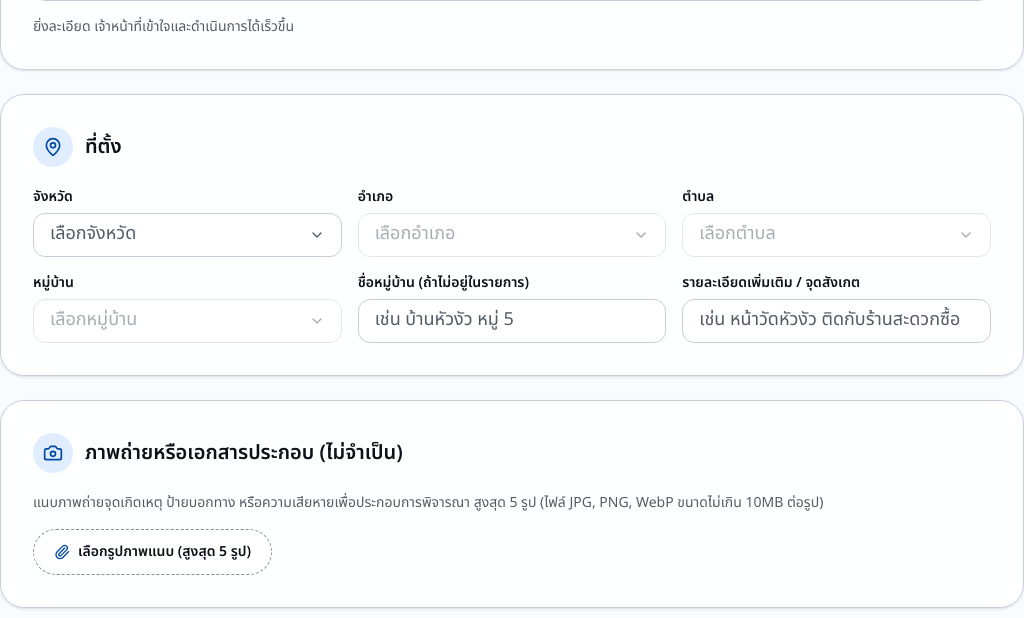
Test case: ฟอร์มแจ้งเรื่องสำหรับผู้สูงอายุ › NET-01: เมื่อสลับจังหวัดเร็ว ผลลัพธ์ที่มาช้าของจังหวัดเก่าจะไม่ทับอำเภอของจังหวัดใหม่
This screenshot has width=1024, height=618.
(page scrolled)
Press ArrowDown in the dropdown labelled "จังหวัด", box x1=33 y1=213 x2=342 y2=257
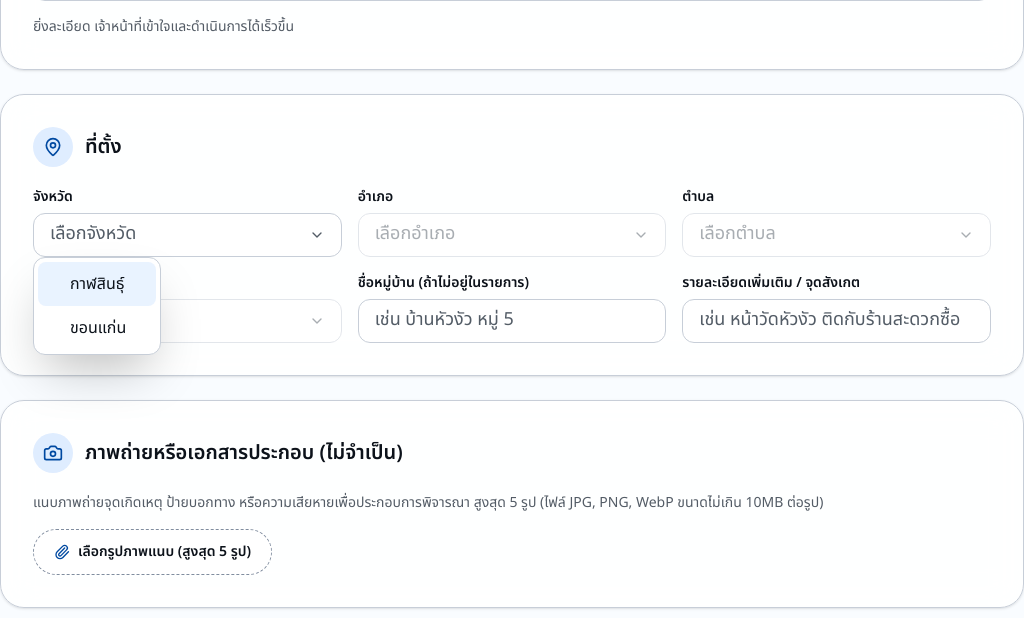
Click the option "กาฬสินธุ์" at (97, 284), box x1=38 y1=262 x2=156 y2=306
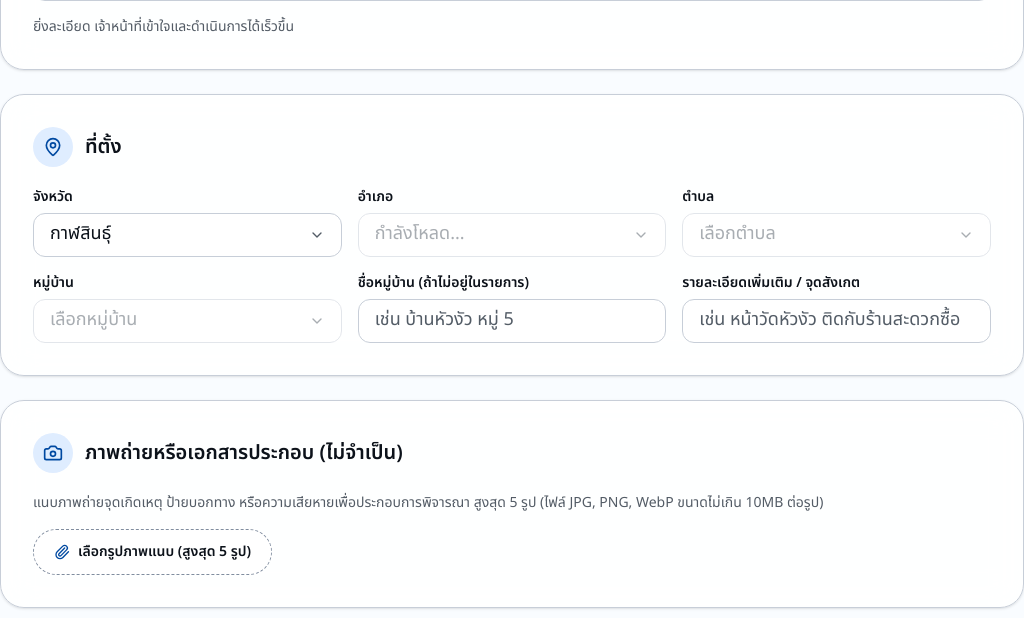
Press ArrowDown in the dropdown named "จังหวัด", box x1=33 y1=213 x2=342 y2=257
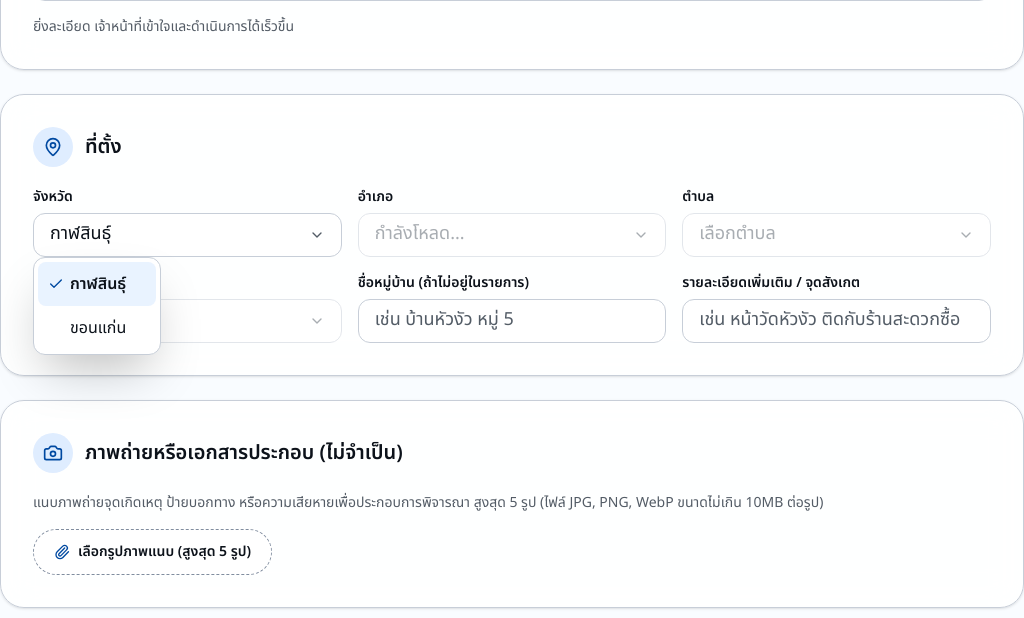
Click the option "ขอนแก่น" at (98, 328), box x1=70 y1=316 x2=126 y2=340
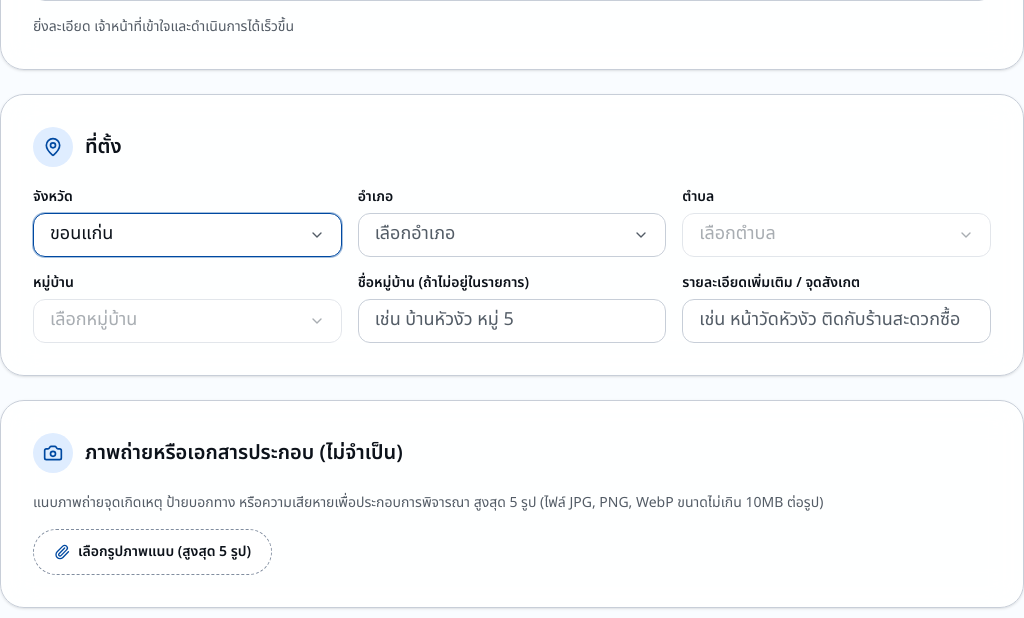
Now the dropdown labelled "อำเภอ" is enabled
Press ArrowDown in the dropdown labelled "อำเภอ", box x1=358 y1=213 x2=666 y2=257
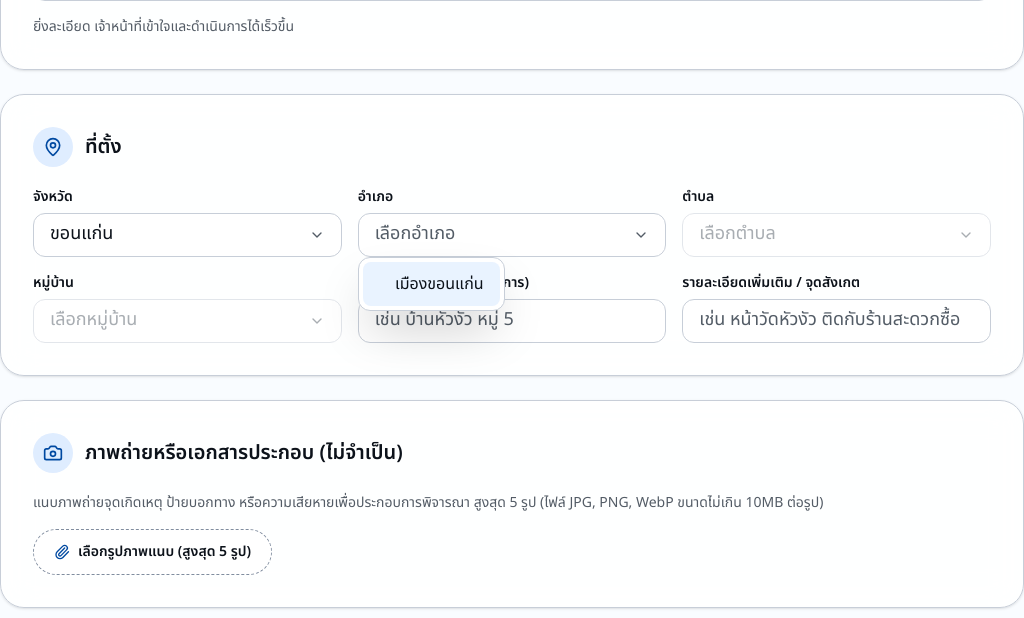
Click the option "เมืองขอนแก่น" at (431, 284), box x1=363 y1=262 x2=500 y2=306
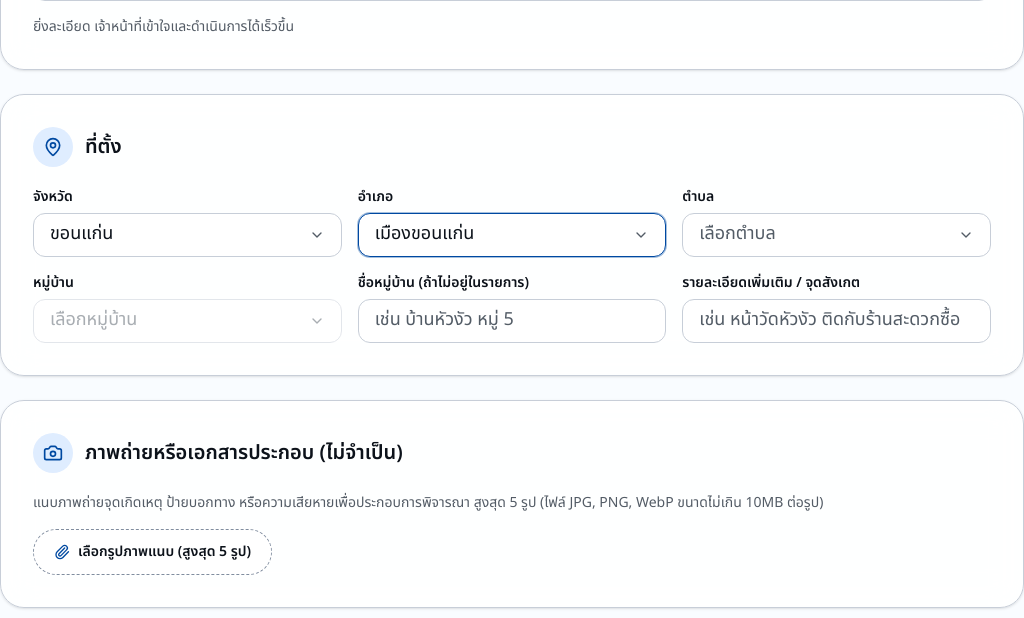
Now the dropdown named "อำเภอ" reads "เมืองขอนแก่น", box x1=358 y1=213 x2=666 y2=257
